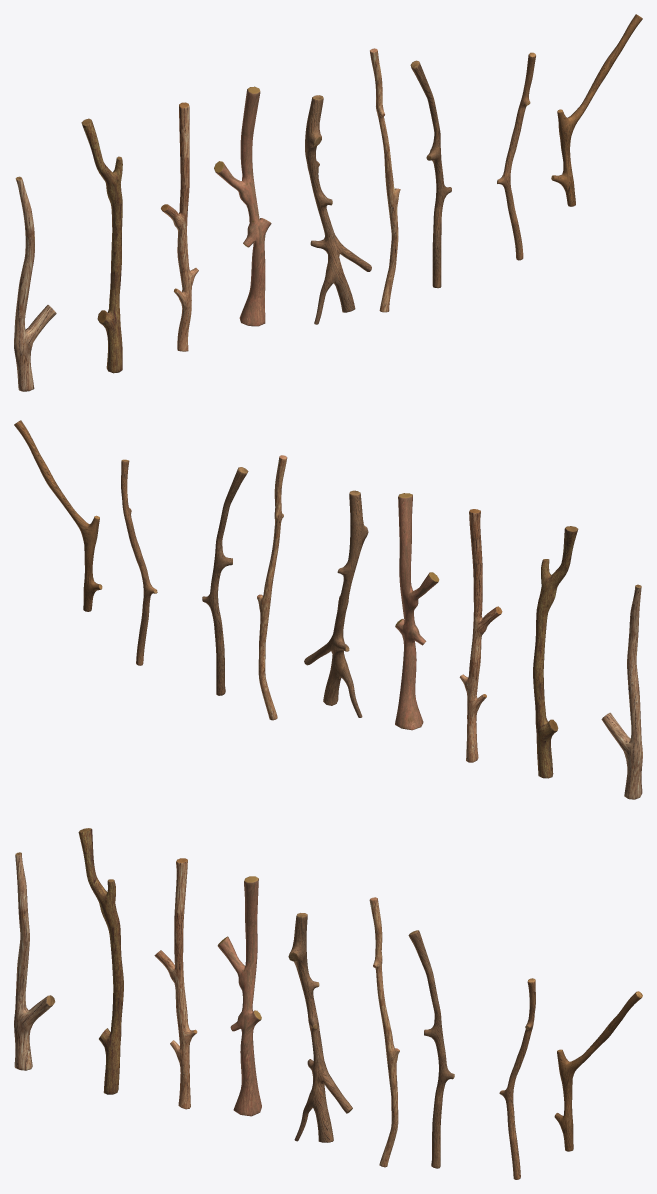
File: item_sticks.glb
The picture shows the model from 3 angles, top to bottom: view 1: azimuth 30°, elevation 25°; view 2: azimuth 150°, elevation 25°; view 3: azimuth 330°, elevation 25°; orthographic projection.
Visible parts, largest first — view 1: stick_5, stick_1, stick_7, stick_9, stick_6, stick_8, stick_2, stick_3, stick_4; view 2: stick_5, stick_7, stick_1, stick_6, stick_9, stick_8, stick_3, stick_2, stick_4; view 3: stick_5, stick_1, stick_7, stick_6, stick_9, stick_3, stick_8, stick_2, stick_4.
Part boxes in pixels (left/top/right/bottom): stick_5: left=214, top=86, right=271, bottom=326; stick_1: left=305, top=95, right=371, bottom=324; stick_7: left=81, top=118, right=122, bottom=373; stick_9: left=14, top=176, right=56, bottom=391; stick_6: left=161, top=102, right=198, bottom=351; stick_8: left=370, top=48, right=400, bottom=312; stick_2: left=551, top=14, right=642, bottom=206; stick_3: left=410, top=60, right=451, bottom=288; stick_4: left=497, top=52, right=535, bottom=260; stick_5: left=395, top=493, right=439, bottom=730; stick_7: left=533, top=526, right=578, bottom=778; stick_1: left=304, top=490, right=368, bottom=717; stick_6: left=459, top=509, right=502, bottom=762; stick_9: left=601, top=584, right=642, bottom=799; stick_8: left=257, top=455, right=287, bottom=720; stick_3: left=202, top=467, right=248, bottom=695; stick_2: left=14, top=420, right=102, bottom=611; stick_4: left=121, top=459, right=157, bottom=665; stick_5: left=217, top=876, right=261, bottom=1116; stick_1: left=288, top=913, right=352, bottom=1142; stick_7: left=78, top=828, right=123, bottom=1094; stick_6: left=154, top=858, right=197, bottom=1109; stick_9: left=14, top=852, right=55, bottom=1070; stick_3: left=408, top=930, right=454, bottom=1168; stick_8: left=369, top=897, right=399, bottom=1167; stick_2: left=554, top=991, right=642, bottom=1151; stick_4: left=499, top=978, right=535, bottom=1179.
Bounding box in the file's own units: 1.21 × 0.4867 × 0.0681.
1 material, 1 textured.
